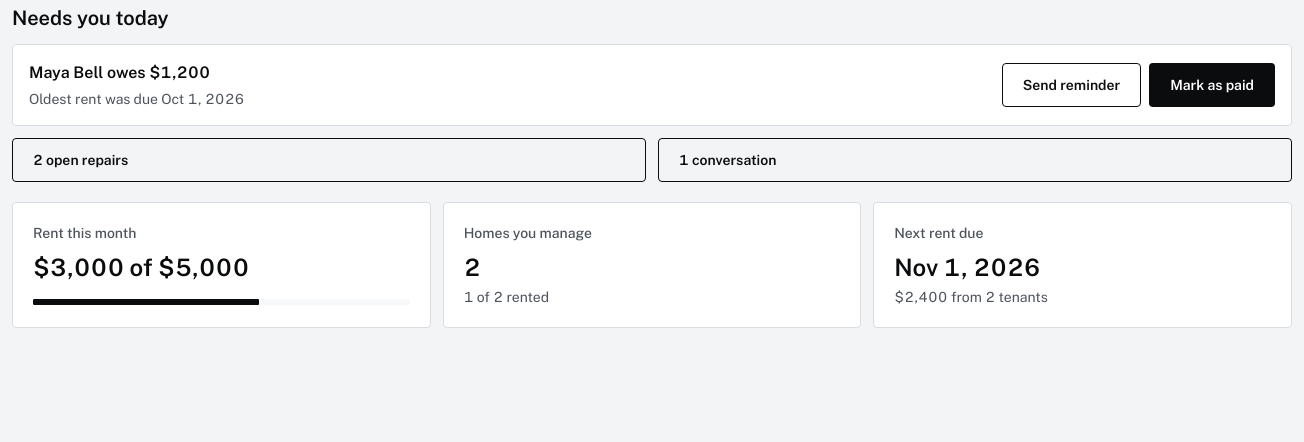
manager Home regression › keeps reminder and outside-payment actions working
Click the button "Send reminder".
click(1072, 85)  # box 1002,63 -> 1141,107
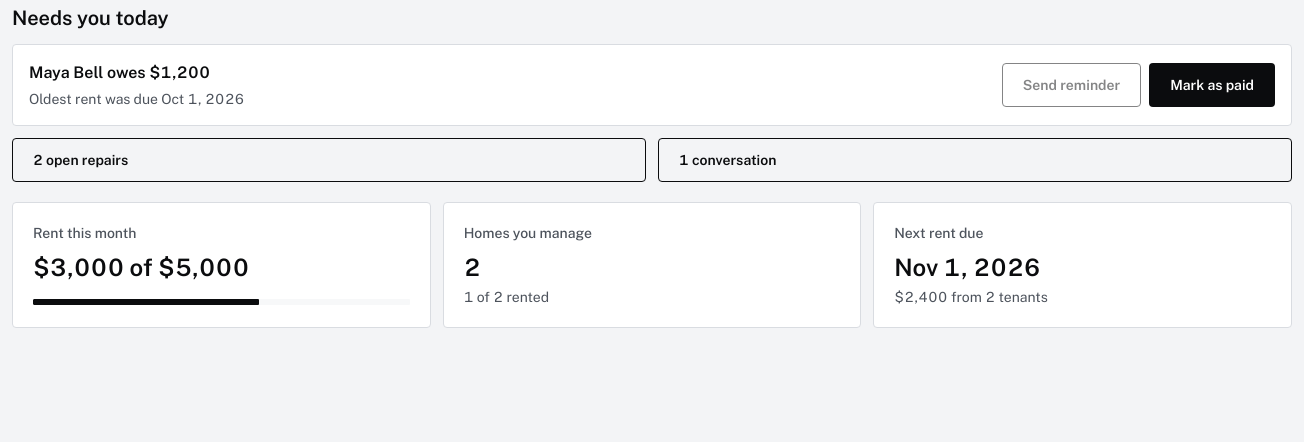
Click the button "Mark as paid".
click(1212, 85)  # box 1149,63 -> 1275,107
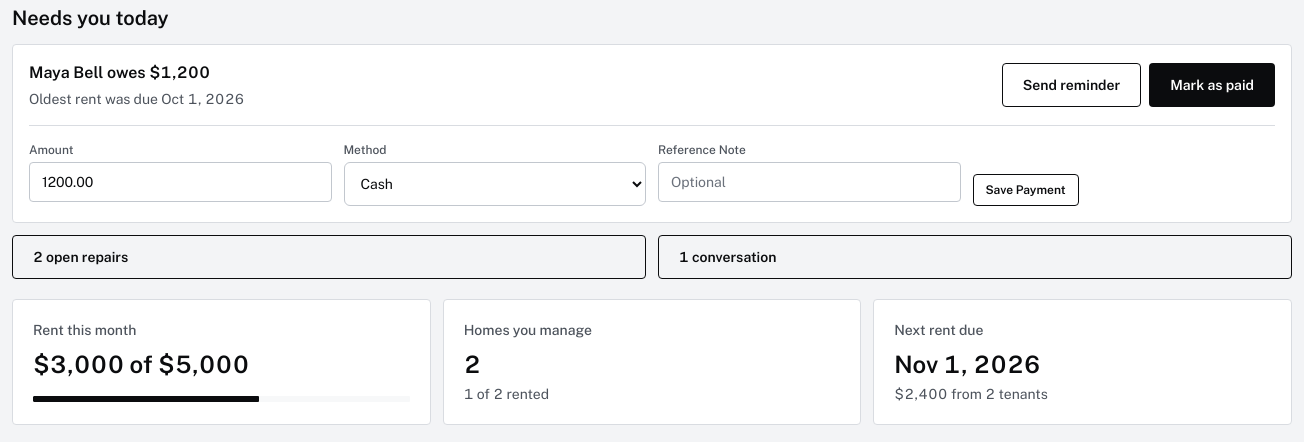
Expected: the button "Save Payment" is shown, 972,174 -> 1078,206
